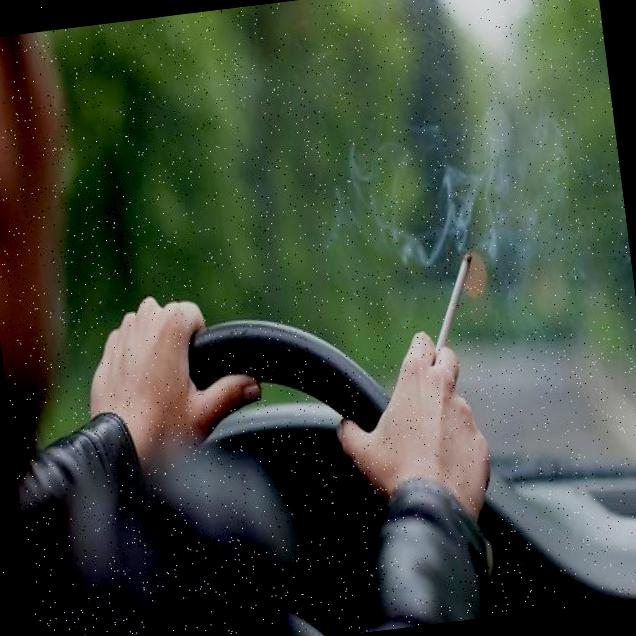smoke: (354, 85, 603, 317)
